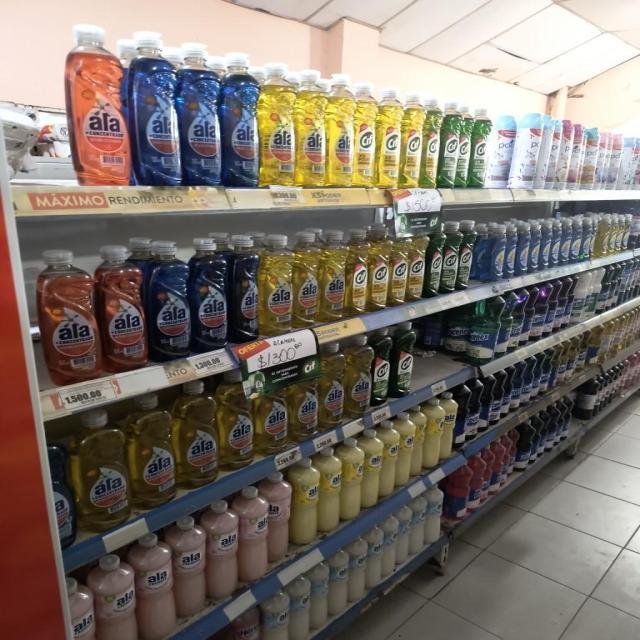ala_conc_amarillo: (74, 408, 128, 532), (130, 393, 175, 510), (176, 378, 218, 488), (260, 61, 296, 187), (296, 68, 326, 187), (219, 369, 254, 470), (260, 232, 292, 336), (327, 70, 354, 188), (255, 376, 288, 454), (320, 229, 346, 322), (294, 230, 318, 328), (346, 334, 372, 418), (320, 340, 344, 428), (290, 378, 318, 440)
ala_conc_azul: (132, 29, 179, 188), (180, 40, 221, 188), (148, 238, 191, 360), (222, 50, 259, 188), (192, 234, 229, 350), (230, 232, 259, 344)
ala_conc_rojo: (67, 22, 130, 186), (35, 246, 99, 385), (101, 243, 147, 373)
ala_crem_rosado: (137, 532, 174, 640), (174, 514, 206, 620), (206, 498, 238, 602), (240, 483, 268, 583), (268, 469, 290, 565)
cif_conc_bot_amarilla: (377, 84, 401, 188), (354, 78, 376, 187), (402, 91, 422, 188), (347, 228, 368, 316), (368, 226, 388, 312), (422, 96, 440, 188), (389, 226, 408, 306), (408, 226, 425, 302)
cif_conc_botella_verde: (391, 322, 413, 398), (441, 98, 457, 189), (372, 326, 390, 406), (471, 105, 487, 188), (442, 220, 459, 294), (426, 223, 442, 298), (457, 103, 471, 188), (459, 220, 473, 291)
magistral_con_amarillo: (596, 213, 607, 258)
magistral_con_azul: (475, 220, 490, 284), (490, 221, 505, 282), (516, 220, 529, 276), (530, 219, 542, 272), (506, 220, 516, 278), (582, 214, 594, 261), (540, 218, 550, 270), (570, 217, 581, 264), (560, 217, 570, 266), (552, 218, 562, 266), (577, 215, 585, 262), (630, 216, 639, 250), (626, 216, 633, 250)
